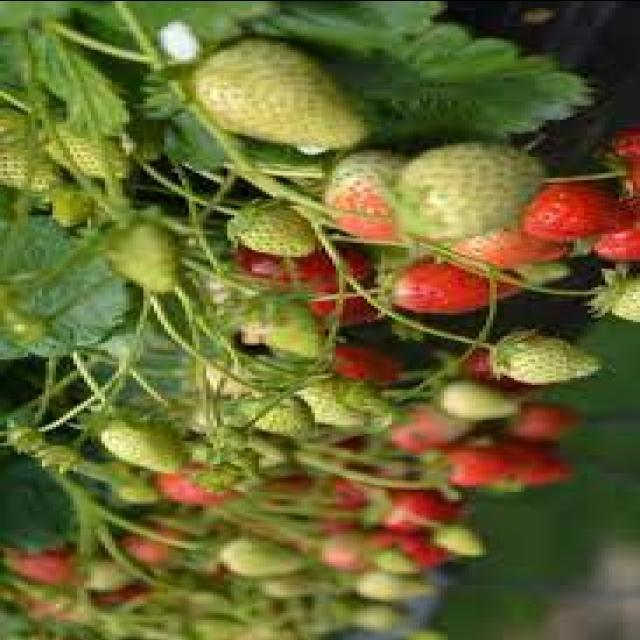strawberry: (190, 37, 366, 145), (394, 142, 542, 236), (384, 264, 520, 312), (520, 180, 626, 238), (107, 215, 178, 291), (94, 413, 182, 471), (494, 334, 600, 382), (250, 298, 320, 355), (236, 203, 312, 255), (220, 538, 304, 576), (436, 381, 514, 419), (357, 570, 439, 599), (434, 524, 486, 556)
